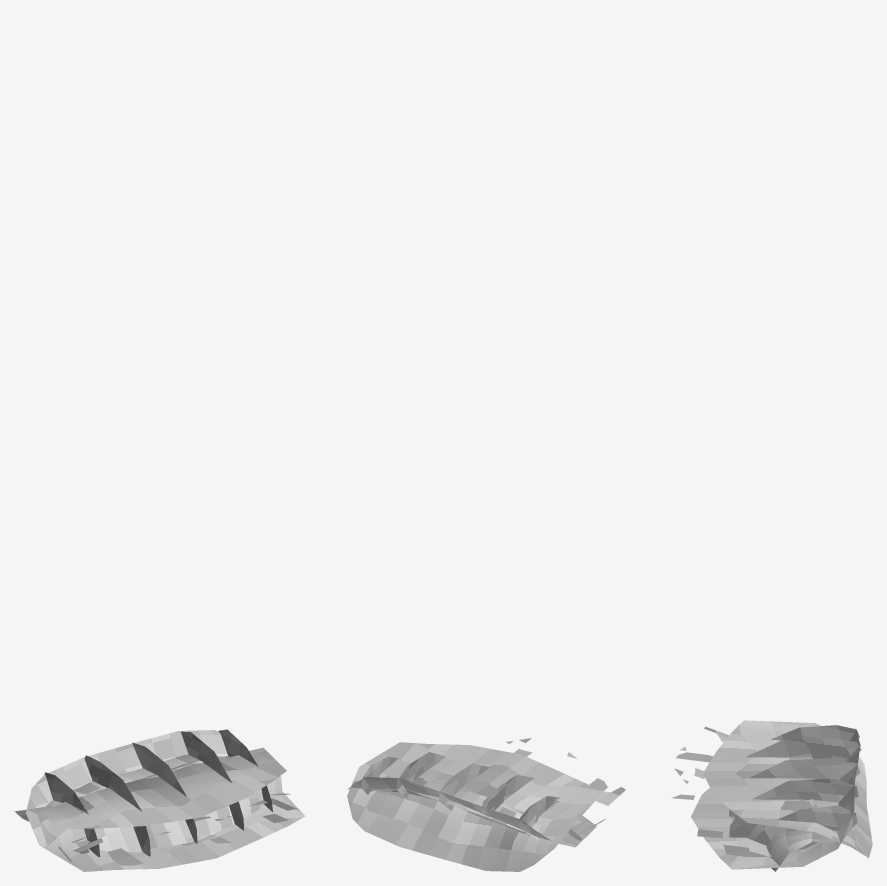
The model's file is vanilla_effects_fxwaterfallskirtslope-ba0a32e1.glb.
The picture shows the model from 3 angles, left to right: view 1: azimuth 30°, elevation 25°; view 2: azimuth 150°, elevation 25°; view 3: azimuth 270°, elevation 25°; orthographic projection. The views are drawn at different scales.
Parts seen in each view (by area): view 1: es|newFog01, es|foam01, es|foam, es|FXWaterfallSkirtFillMesh02; view 2: es|foam01, es|newFog01, es|foam, es|FXWaterfallSkirtFillMesh02; view 3: es|newFog01, es|foam01, es|foam, es|FXWaterfallSkirtFillMesh02.
Boxes of the visible parts, x1=… form: es|newFog01: x1=37, y1=729, x2=282, y2=857; es|foam01: x1=14, y1=748, x2=286, y2=828; es|foam: x1=26, y1=730, x2=304, y2=871; es|FXWaterfallSkirtFillMesh02: x1=58, y1=793, x2=299, y2=865; es|foam01: x1=347, y1=742, x2=602, y2=871; es|newFog01: x1=361, y1=752, x2=581, y2=840; es|foam: x1=348, y1=777, x2=596, y2=847; es|FXWaterfallSkirtFillMesh02: x1=506, y1=738, x2=625, y2=839; es|newFog01: x1=729, y1=725, x2=861, y2=871; es|foam01: x1=703, y1=720, x2=872, y2=858; es|foam: x1=691, y1=732, x2=860, y2=869; es|FXWaterfallSkirtFillMesh02: x1=671, y1=726, x2=772, y2=856.
Size of the model in its own units: 14.99 by 50.2 by 11.78.
4 materials, 4 textured.
